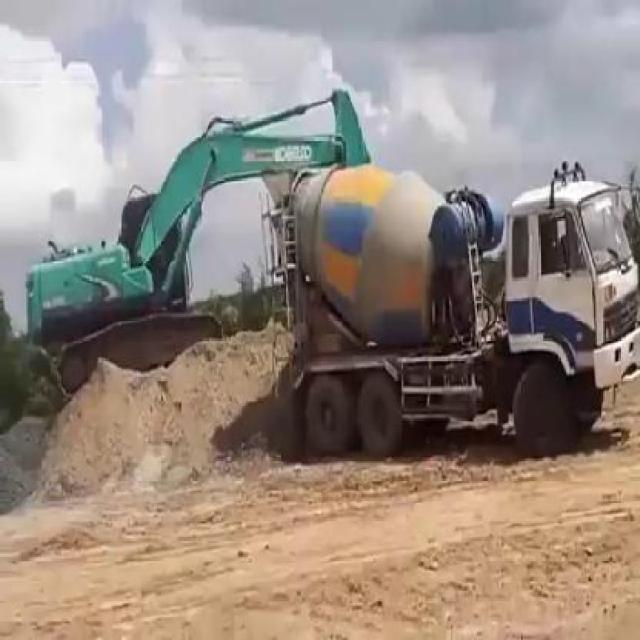excavator: (25, 94, 366, 400)
